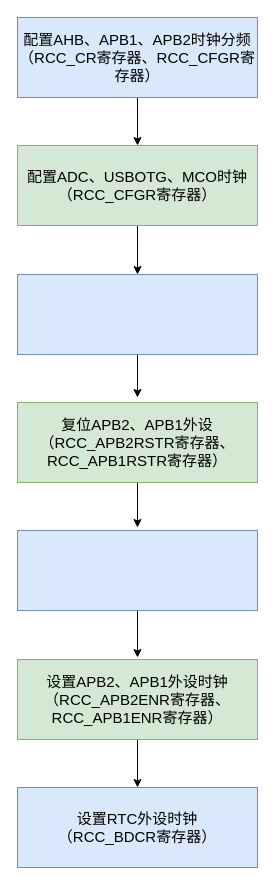
The diagram is 275 pixels wide and 885 high, and some of its shapes have lost their labels. The centre of each missing label's shape, as x and y in pixels:
清除时钟中断寄存器 （RCC_CIR寄存器）: [137,314]
设置AHB外设时钟 （RCC_AHBENR寄存器）: [137,570]
